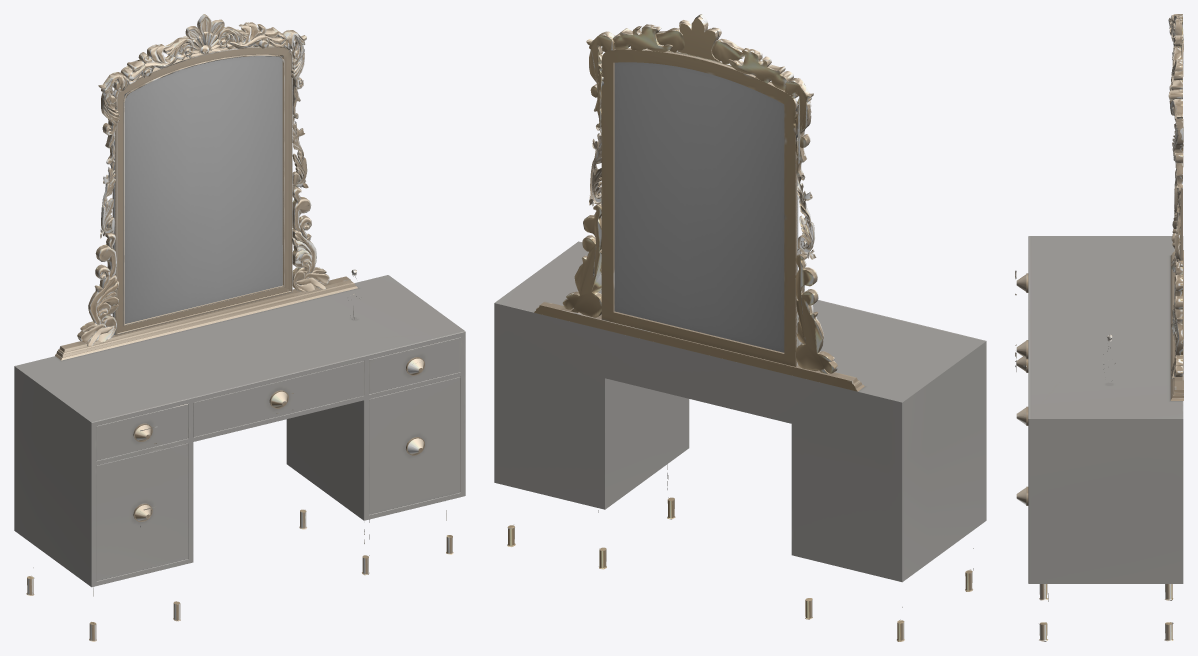
The model's file is raw_model.obj.
The picture shows the model from 3 angles, left to right: view 1: azimuth 30°, elevation 25°; view 2: azimuth 150°, elevation 25°; view 3: azimuth 270°, elevation 25°; orthographic projection. The views are drawn at different scales.
Visible parts, largest first — view 1: solid_005, solid_003, solid_002; view 2: solid_005, solid_003, solid_002; view 3: solid_005, solid_002.
Boxes of the visible parts, x1=… form: solid_005: x1=14, y1=275, x2=465, y2=587; solid_003: x1=124, y1=56, x2=282, y2=323; solid_002: x1=26, y1=14, x2=453, y2=641; solid_005: x1=494, y1=241, x2=986, y2=582; solid_003: x1=614, y1=62, x2=784, y2=352; solid_002: x1=507, y1=14, x2=973, y2=641; solid_005: x1=1028, y1=236, x2=1183, y2=583; solid_002: x1=1016, y1=14, x2=1183, y2=641.
Size of the model in its own units: 1.27 by 1.73 by 0.4961.
1 material, 1 textured.
